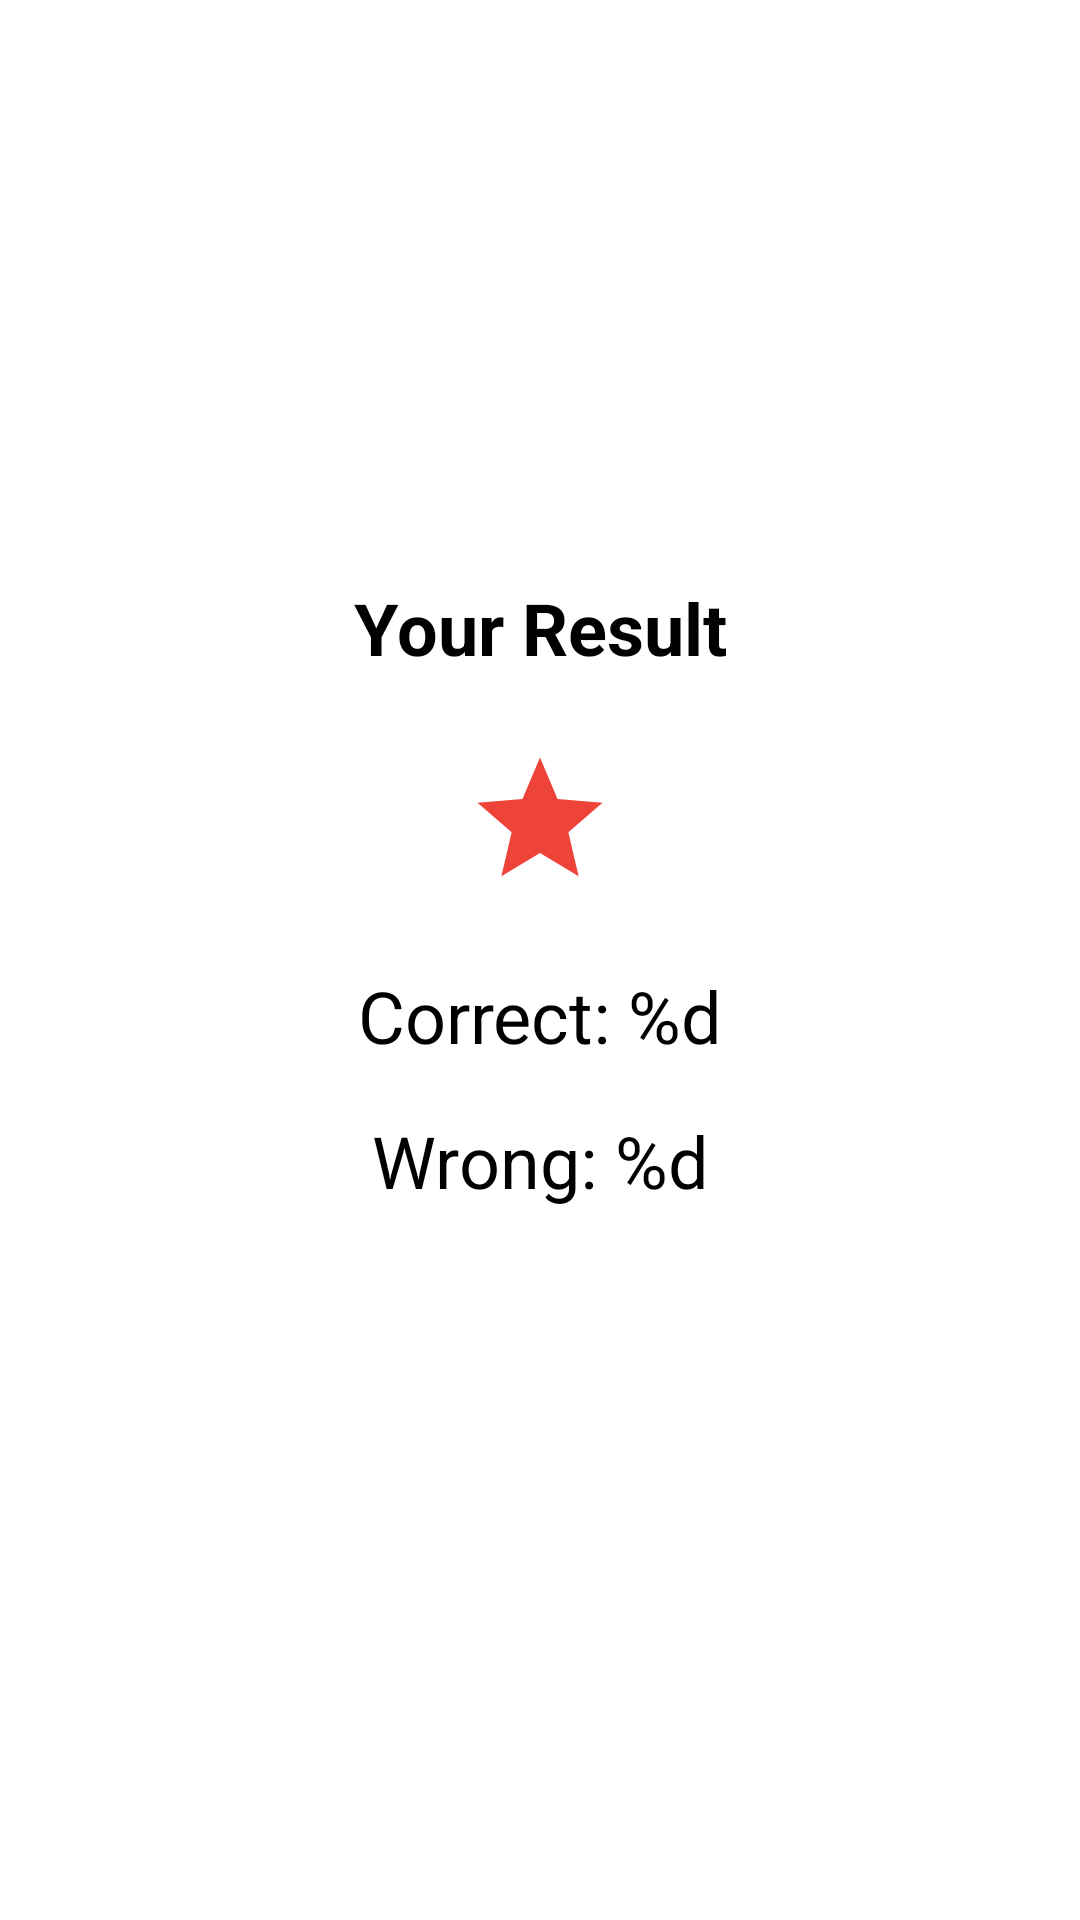

Locate icon controls on the screen. Image size 1080w x 1920h, boxes as (x1, y1, x2, y2).
star: (478, 758, 602, 876)
